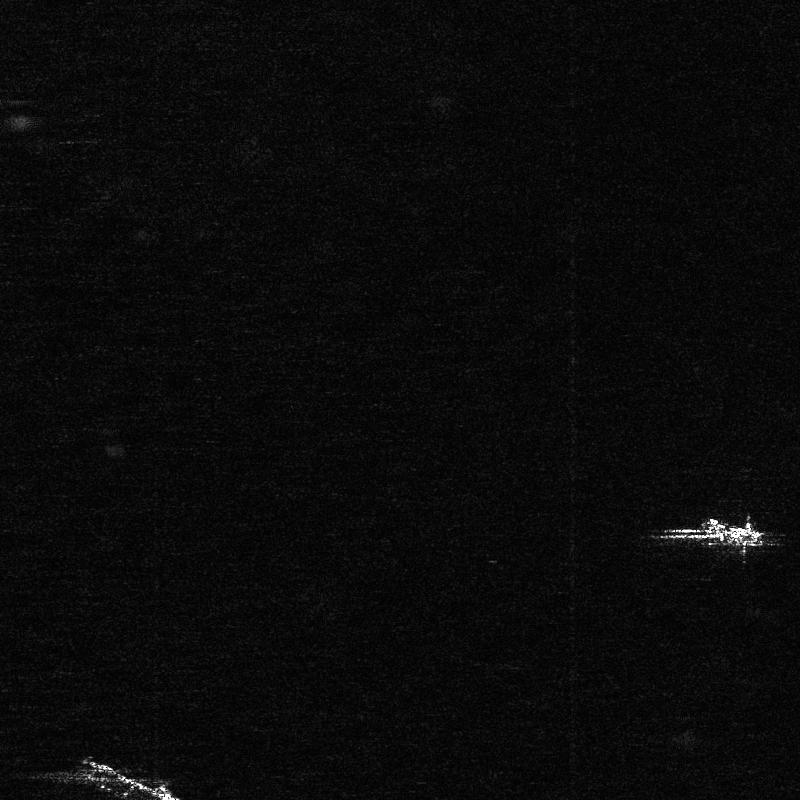ship: (83, 760, 179, 799), (703, 518, 764, 546)
